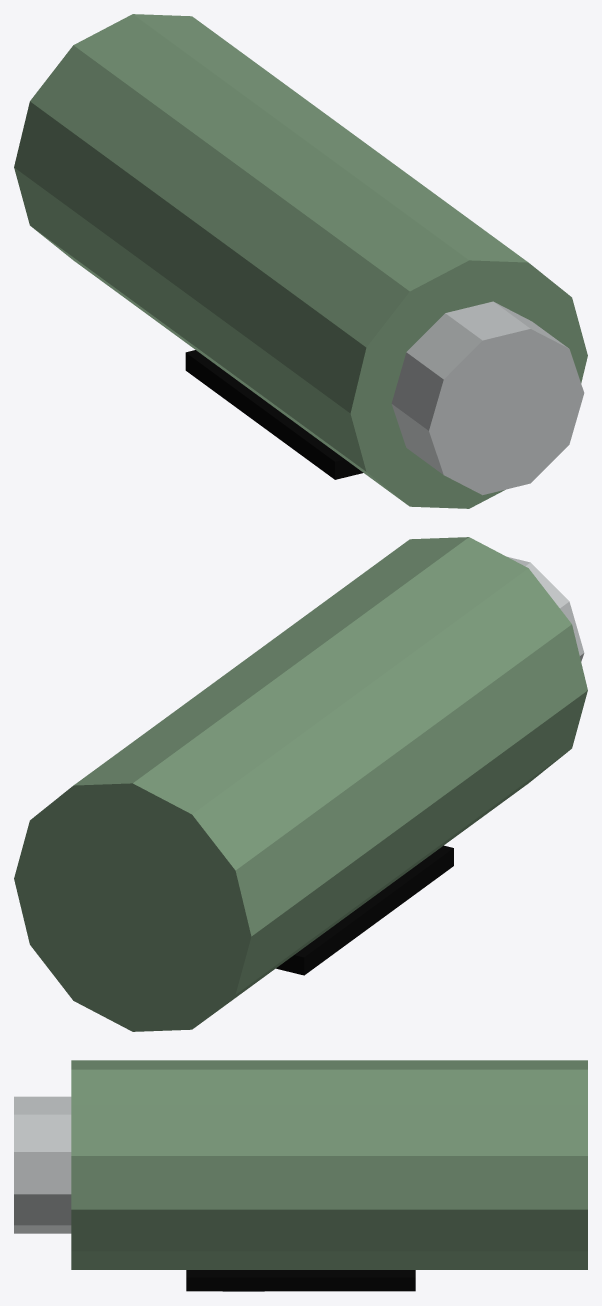
Rendered from battery.glb.
3 views of the same model, one above another, from view 1: azimuth 30°, elevation 25°; view 2: azimuth 150°, elevation 25°; view 3: azimuth 270°, elevation 25° (orthographic). The views are drawn at different scales.
Parts seen in each view (by area): view 1: 00_battery, 01_terminal, 02_battery_label; view 2: 00_battery, 02_battery_label, 01_terminal; view 3: 00_battery, 01_terminal, 02_battery_label.
Part boxes in pixels (x1=…): 00_battery: x1=14, y1=14, x2=587, y2=508; 01_terminal: x1=391, y1=301, x2=584, y2=495; 02_battery_label: x1=185, y1=350, x2=363, y2=479; 00_battery: x1=14, y1=537, x2=587, y2=1031; 02_battery_label: x1=276, y1=845, x2=453, y2=975; 01_terminal: x1=507, y1=556, x2=584, y2=661; 00_battery: x1=71, y1=1060, x2=587, y2=1269; 01_terminal: x1=14, y1=1096, x2=71, y2=1233; 02_battery_label: x1=186, y1=1270, x2=415, y2=1291.
Size of the model in its own units: 0.11 by 0.12 by 0.3.
